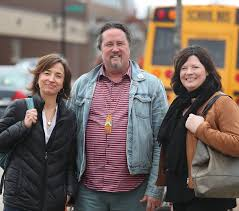no-mask: (95, 25, 136, 77), (32, 49, 71, 102), (173, 49, 211, 92)
